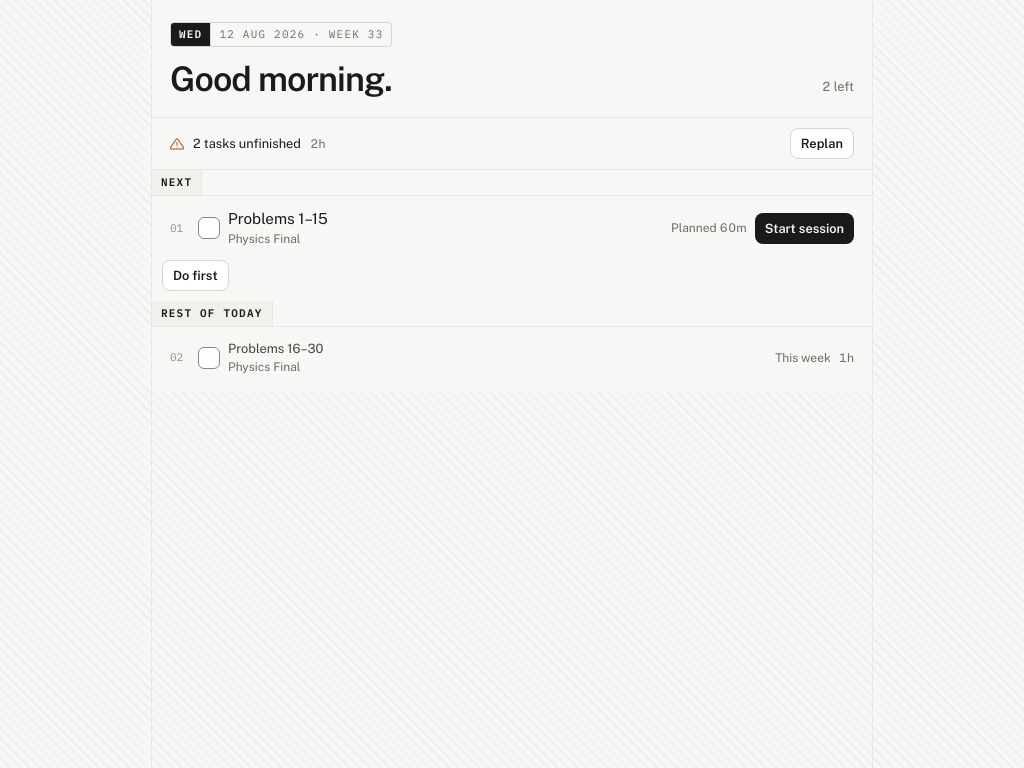
recovering a day that slipped › moves nothing until the preview is accepted
The image size is (1024, 768).
Step 1. Click the button "Replan" → {"x": 822, "y": 144}, box x1=790 y1=128 x2=854 y2=159
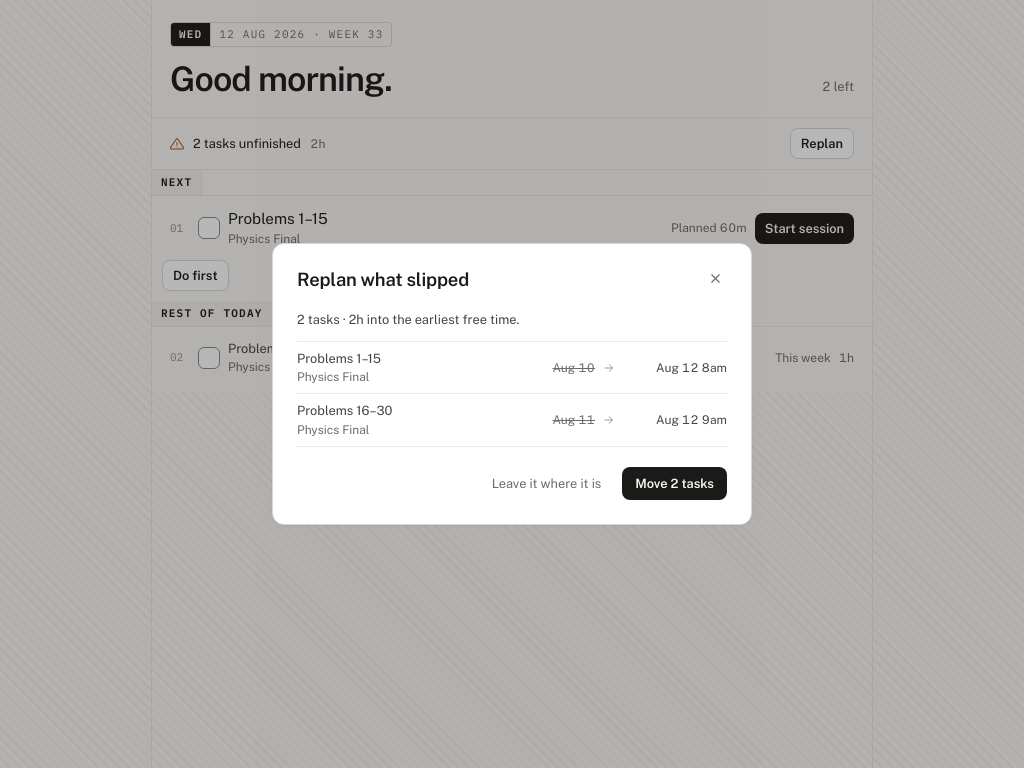
Expected: the dialog is shown, x1=272 y1=243 x2=752 y2=525
